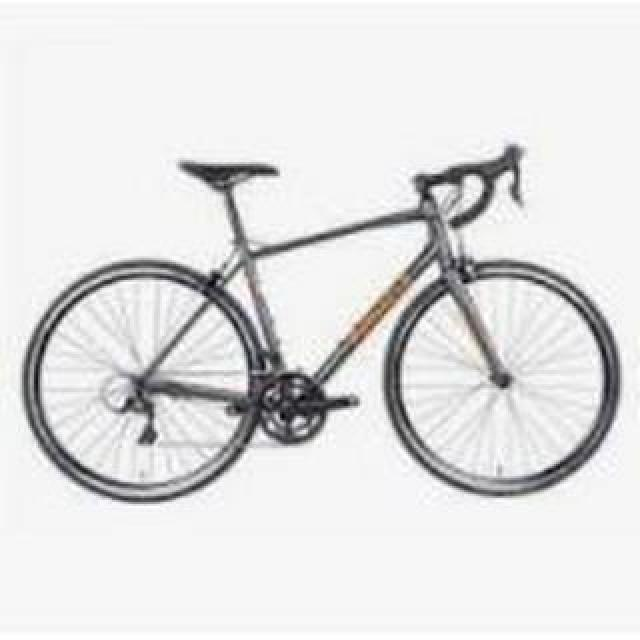Person: (16, 142, 624, 502)
